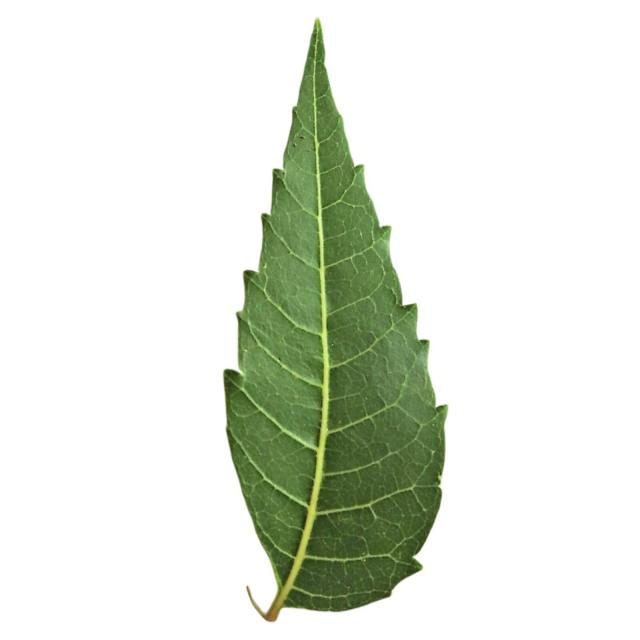Medicinal-Neem: (225, 19, 447, 619)
